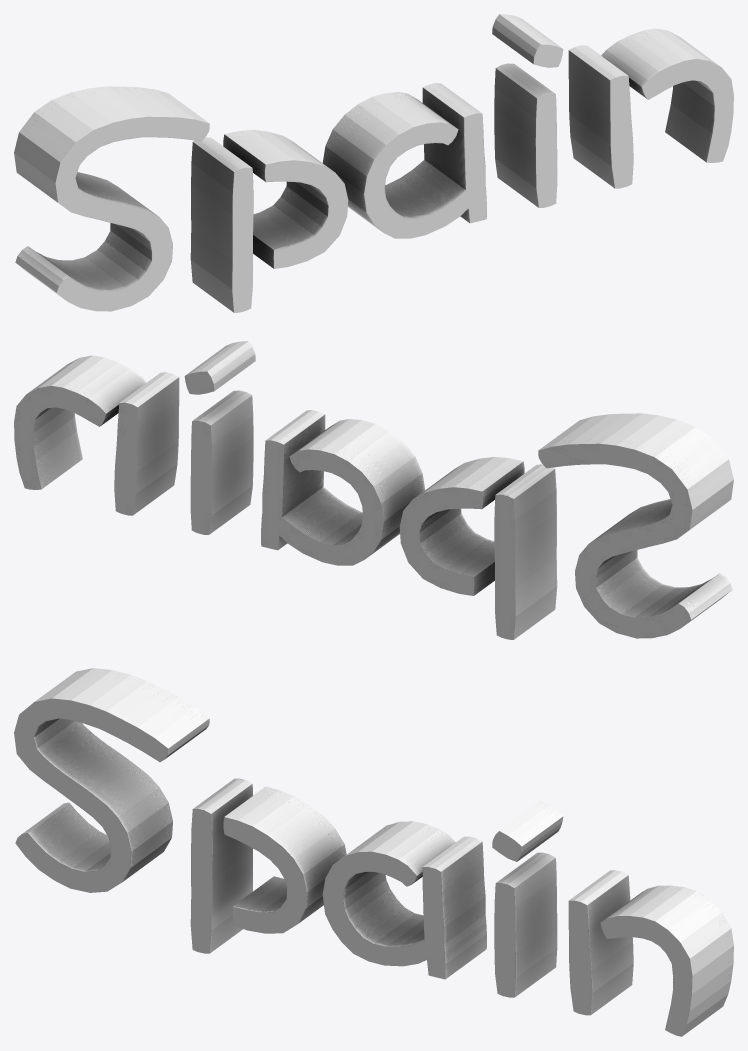
File: spain [en].DAE
The picture shows the model from 3 angles, top to bottom: view 1: azimuth 30°, elevation 25°; view 2: azimuth 150°, elevation 25°; view 3: azimuth 330°, elevation 25°; orthographic projection.
Parts seen in each view (by area): view 1: objpolymsh; view 2: objpolymsh; view 3: objpolymsh.
Boxes of the visible parts, x1,y1,x2,y2 form: objpolymsh: (14, 14, 733, 312); objpolymsh: (14, 341, 733, 639); objpolymsh: (14, 668, 733, 1036).
Size of the model in its own units: 8.08 by 0.8551 by 2.51.
Materials: 1 (1 with a texture image).
